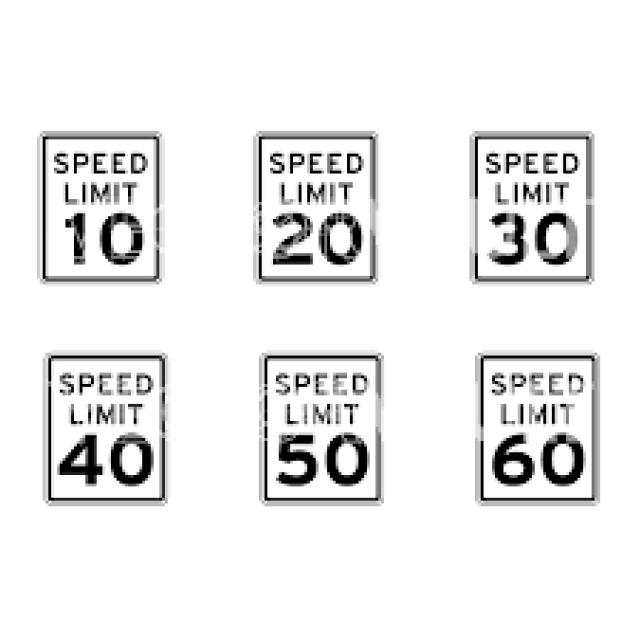speedLimit40: (47, 357, 163, 499)
